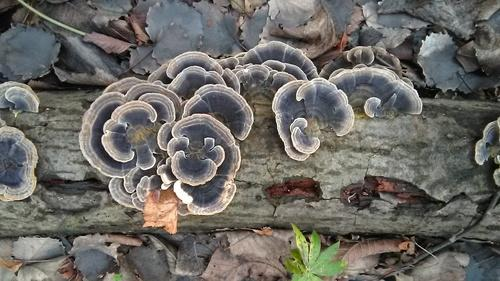Non-edible Mushroom: (42, 35, 475, 168), (157, 112, 241, 215), (270, 76, 355, 161), (0, 78, 47, 201)
